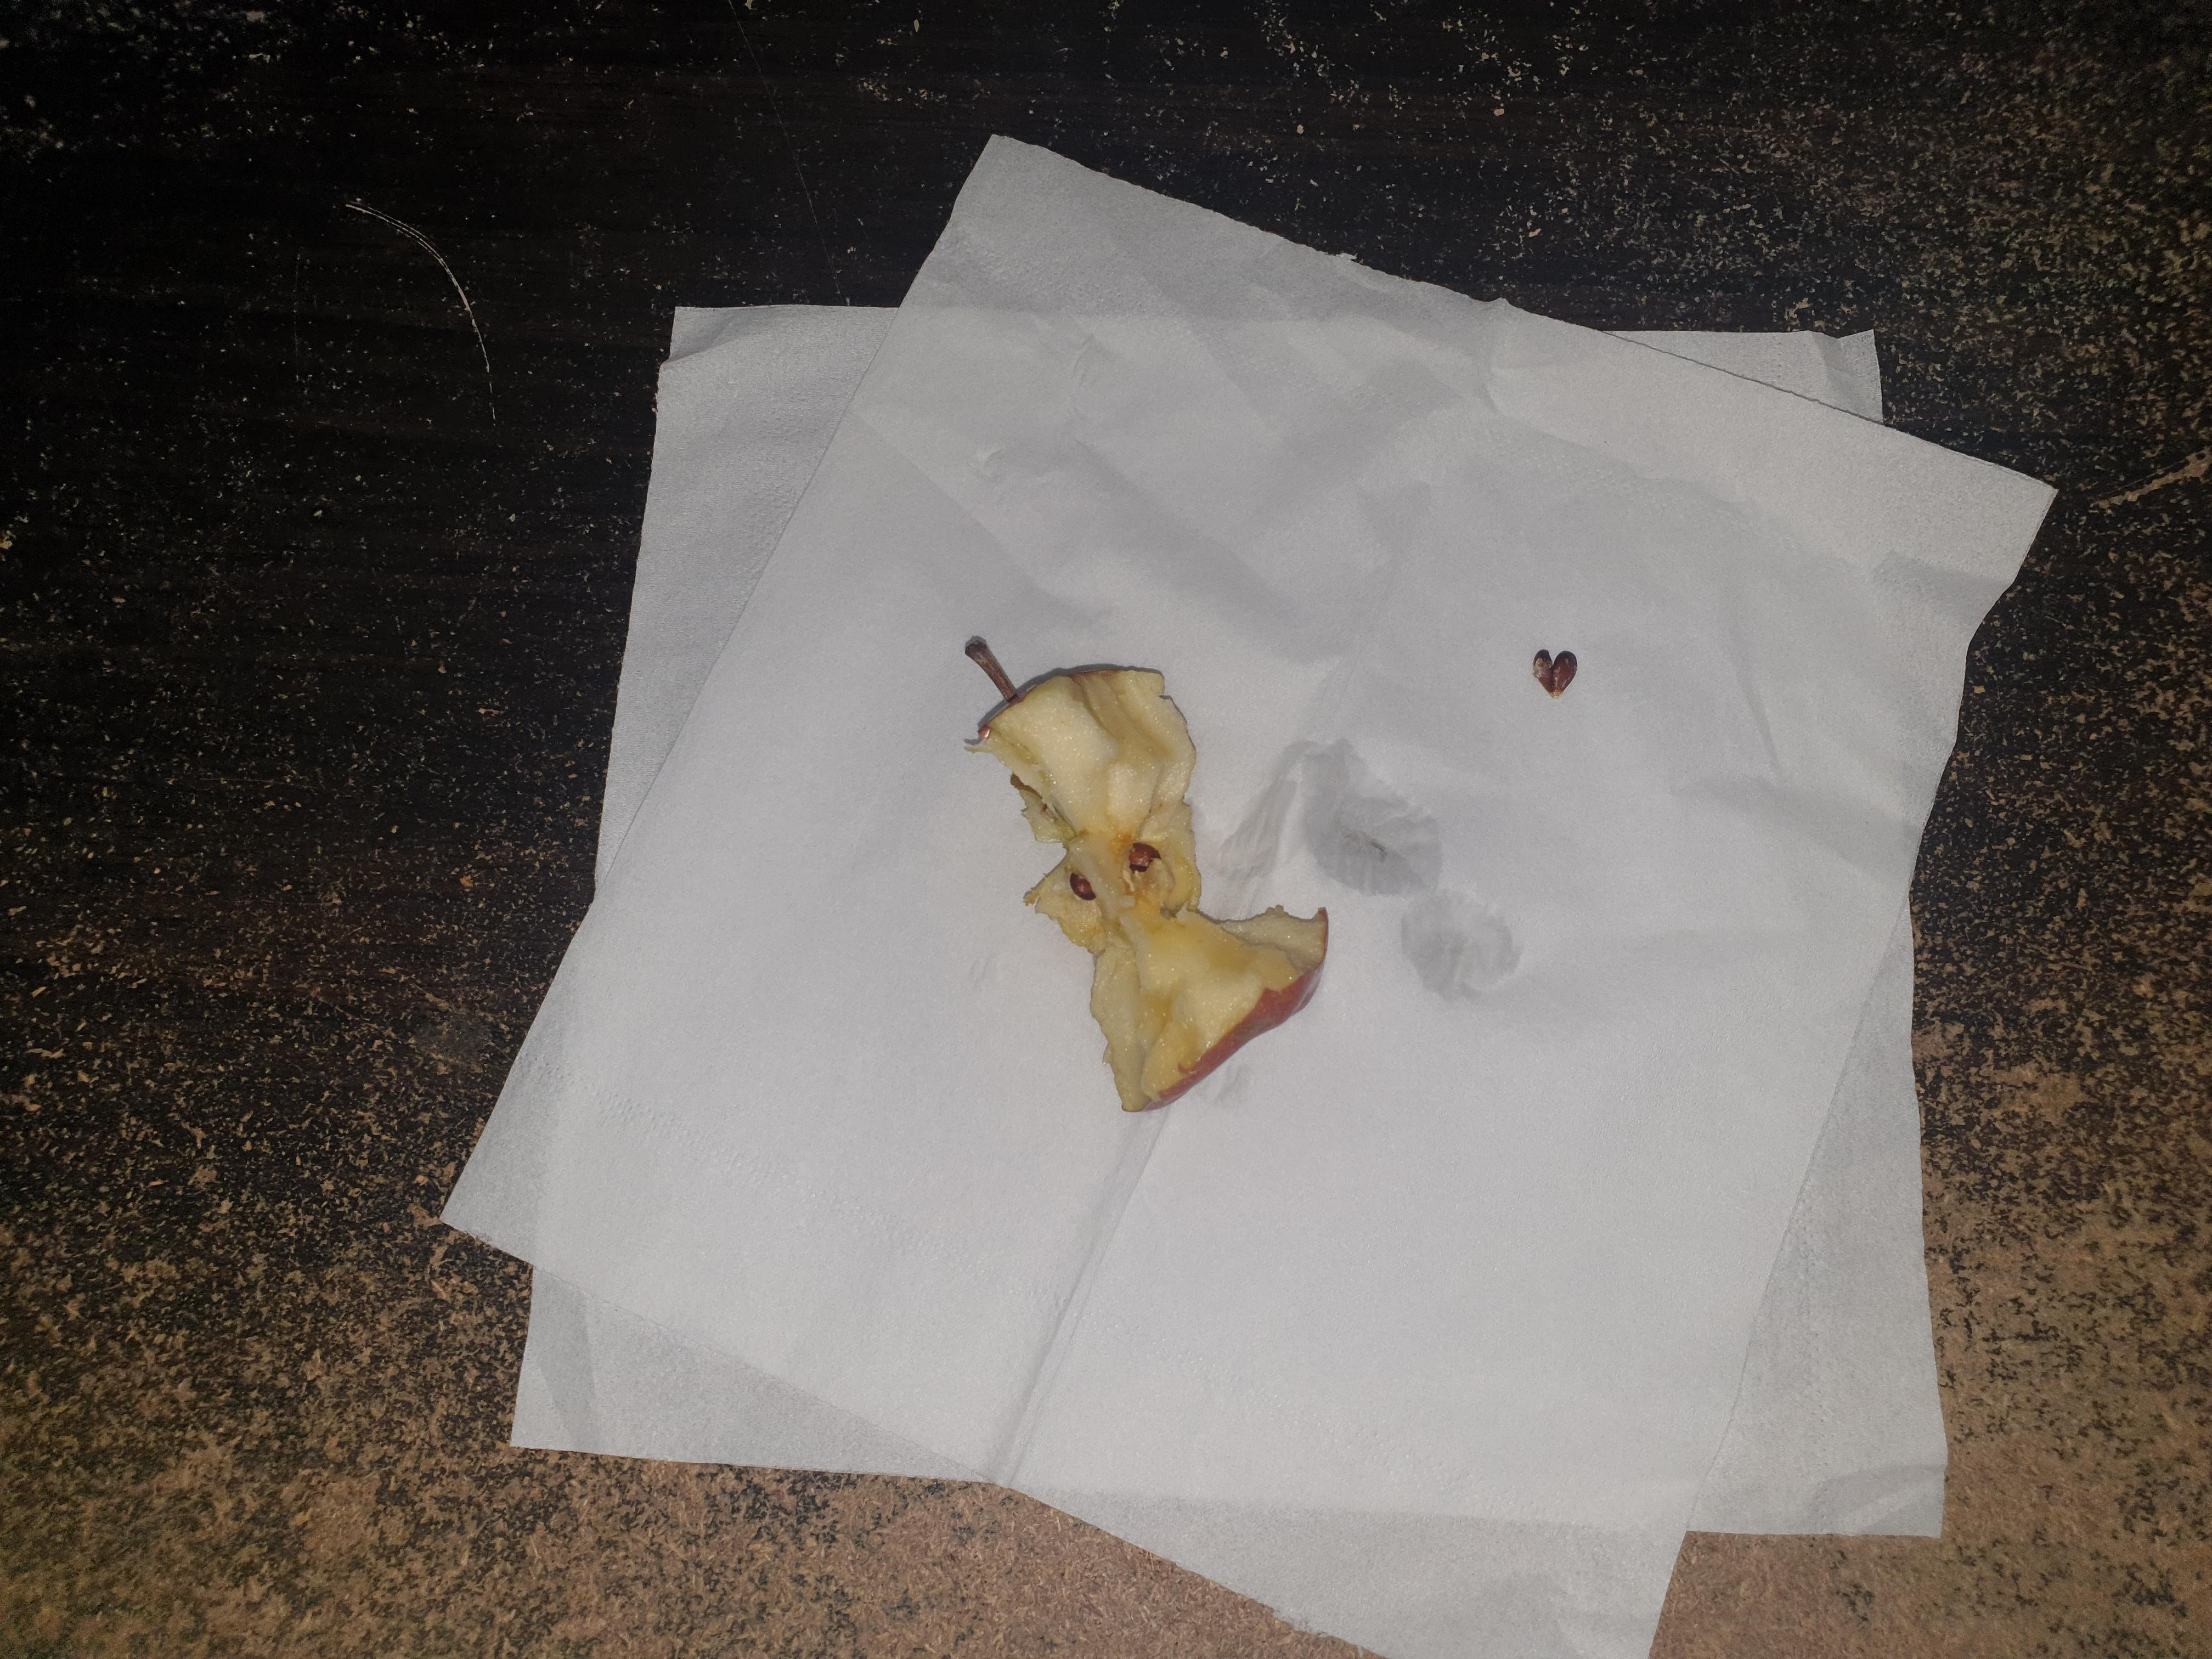Apple: (937, 606, 1352, 1121)
